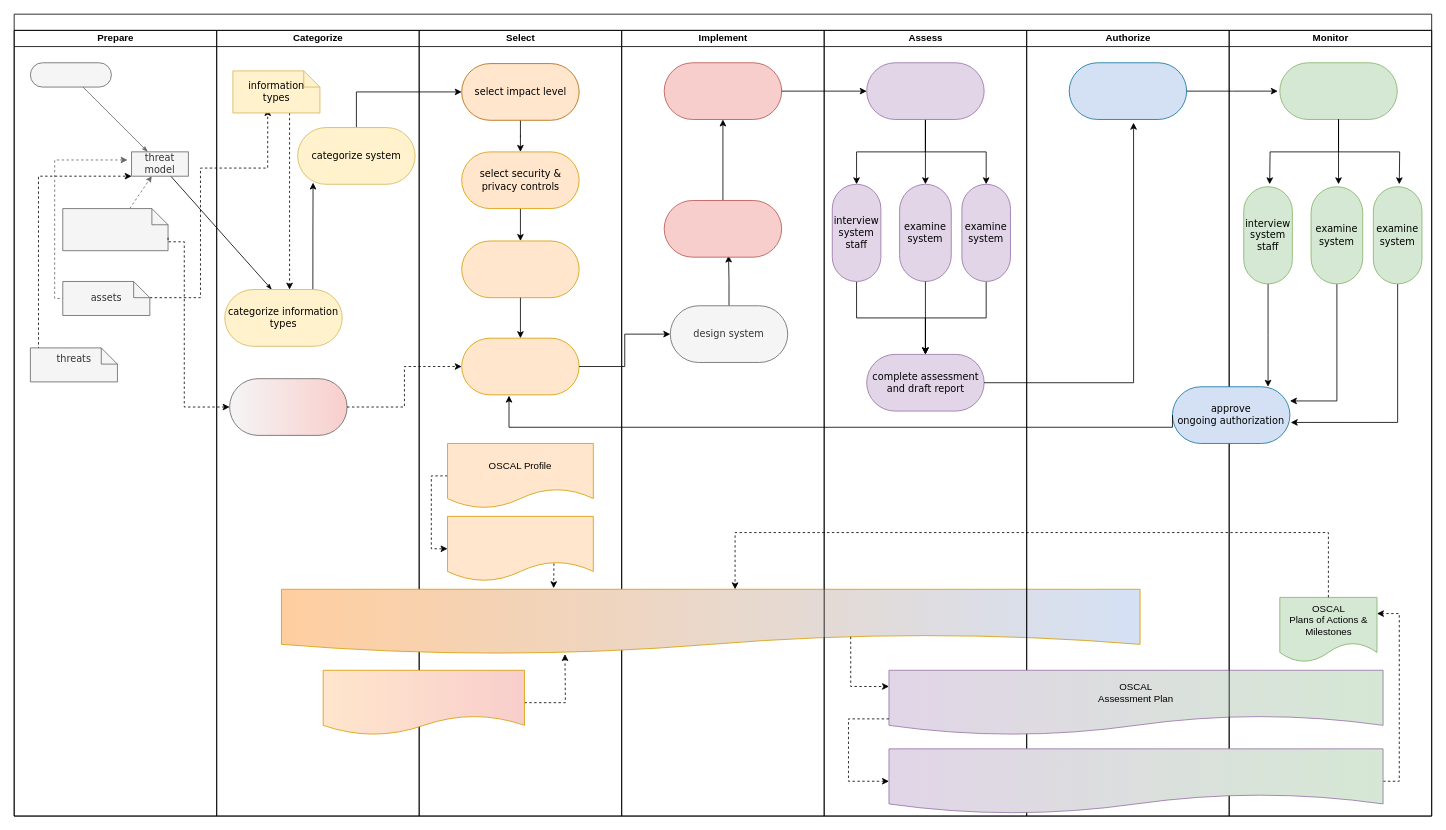
The diagram is 1446 pixels wide and 830 high, and some of its shapes have lost their labels. Each missing label, with the centre of its shape:
"(automate) test security & privacy controls" belongs at point 722,90.
"administer continuous monitoring program" belongs at point 1338,90.
"approve initial authorization" belongs at point 1127,90.
"begin assessment cycle" belongs at point 925,90.
"countermeasures" belongs at point 115,229.
"Custom OSCAL Catalog" belongs at point 520,548.
"define system capabilities" belongs at point 288,406.
"implement & document system" belongs at point 722,228.
"OSCAL Assessment Results" belongs at point 1135,781.
"OSCAL Component Definitions" belongs at point 423,702.
"OSCAL System Security Plan" belongs at point 710,621.
"prioritize capabilities" belongs at point 520,366.
"scope & tailor system controls" belongs at point 520,269.
"threat modeling" belongs at point 70,74.
